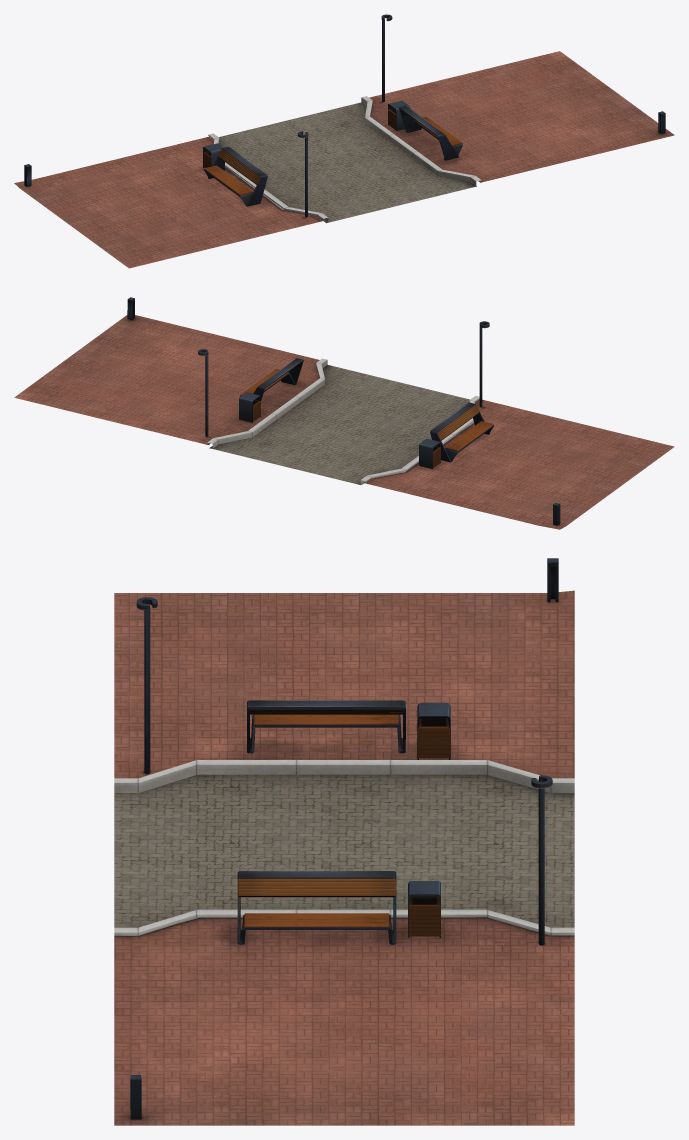
File: street_8.glb
The picture shows the model from 3 angles, top to bottom: view 1: azimuth 30°, elevation 25°; view 2: azimuth 150°, elevation 25°; view 3: azimuth 270°, elevation 25°; orthographic projection. The views are drawn at different scales.
Visible parts, largest first — view 1: street_8; view 2: street_8; view 3: street_8.
Part boxes in pixels (x1=…): street_8: x1=14, y1=14, x2=674, y2=268; street_8: x1=14, y1=297, x2=674, y2=529; street_8: x1=114, y1=558, x2=574, y2=1125.
Bounding box in the file's own units: 21.91 × 3.35 × 8.
Materials: 1 (1 with a texture image).
